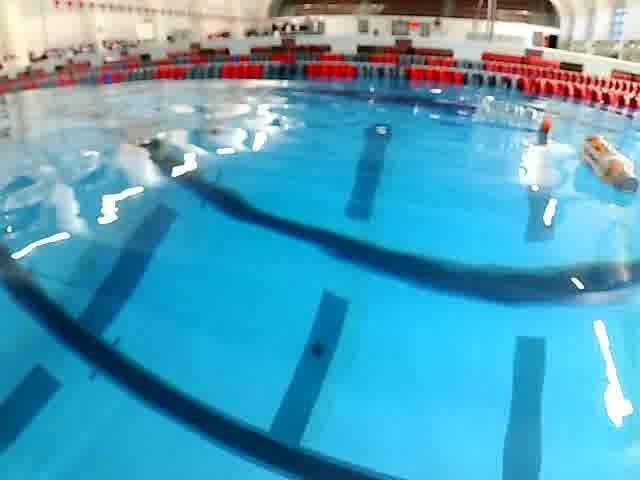Bottle: (575, 129, 640, 197), (468, 94, 558, 138)
